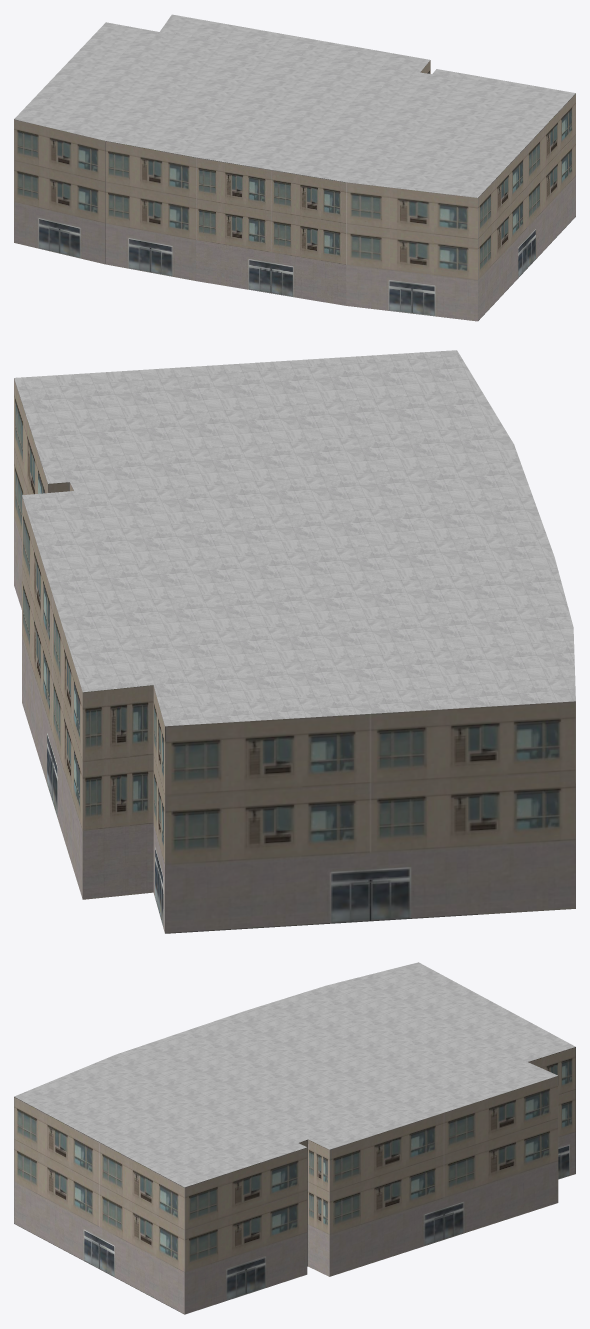
3 renders of one model, top to bottom at view 1: azimuth 30°, elevation 25°; view 2: azimuth 150°, elevation 25°; view 3: azimuth 270°, elevation 25°, orthographic. The views are drawn at different scales.
Parts seen in each view (by area): view 1: BuildingMaster_2008193441224462637200000000_0, BuildingMaster_2008193441224462637200000000_1; view 2: BuildingMaster_2008193441224462637200000000_1, BuildingMaster_2008193441224462637200000000_0; view 3: BuildingMaster_2008193441224462637200000000_0, BuildingMaster_2008193441224462637200000000_1.
Part boxes in pixels (x1,y1,x2,y2): BuildingMaster_2008193441224462637200000000_0: (14, 60, 575, 321); BuildingMaster_2008193441224462637200000000_1: (14, 14, 575, 197); BuildingMaster_2008193441224462637200000000_1: (14, 350, 575, 726); BuildingMaster_2008193441224462637200000000_0: (14, 378, 575, 933); BuildingMaster_2008193441224462637200000000_0: (14, 1047, 575, 1314); BuildingMaster_2008193441224462637200000000_1: (14, 962, 575, 1187).
Size of the model in its own units: 39.87 by 10.5 by 42.05.
2 materials, 2 textured.
